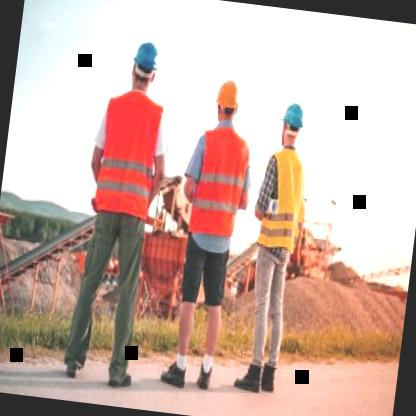helmet: (126, 33, 164, 96), (208, 72, 245, 132), (275, 92, 308, 154)
